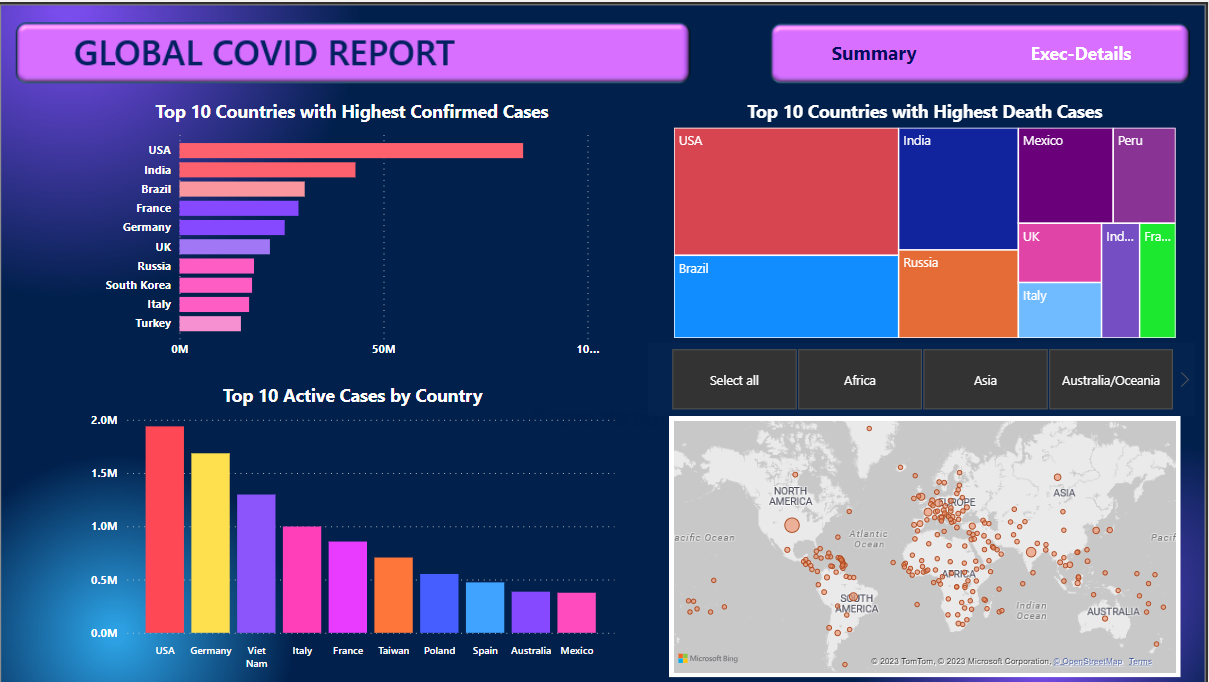

The page's visual inventory and layout, read from the dashboard file:
{"tool":"powerbi","page":{"name":"Summary","canvas":[1280,720],"ordinal":0},"visuals":[{"type":"barChart","title":"Top 10 Countries with Highest Confirmed Cases","fields":{"Category":["worldometer_coronavirus_summary_data.country"],"Y":["Sum(worldometer_coronavirus_summary_data.total_confirmed)"]},"box":[104.9,103.3,535.6,282.9],"z":0},{"type":"map","title":"Global Cases","fields":{"Category":["worldometer_coronavirus_summary_data.country","worldometer_coronavirus_summary_data.continent"],"Size":["Sum(worldometer_coronavirus_summary_data.total_confirmed)"]},"box":[708.9,438.7,542,276.6],"z":1000},{"type":"slicer","fields":{"Values":["worldometer_coronavirus_summary_data.continent"]},"box":[686.6,360.8,580.1,77.9],"z":2000},{"type":"treemap","title":"Top 10 Countries with Highest Death Cases","fields":{"Group":["worldometer_coronavirus_summary_data.country"],"Values":["Sum(worldometer_coronavirus_summary_data.total_deaths)"]},"box":[708.9,103.3,542,257.5],"z":3000},{"type":"clusteredColumnChart","title":"Top 10 Active Cases by Country","fields":{"Category":["Global_covid_Data.country"],"Y":["Sum(Global_covid_Data.active_cases)"]},"box":[90.6,403.7,565.8,311.5],"z":4000},{"type":"pageNavigator","box":[821.7,27,429.1,52.5],"z":4001}]}

Visuals, with their boxes in screenshot pixels (x1, y1, x2, y2), scaled from the page's 1280x720 canvas onto the 1209x682 screenshot:
"Top 10 Countries with Highest Confirmed Cases" barChart: box(99, 98, 605, 366)
"Global Cases" map: box(670, 416, 1182, 678)
slicer - worldometer_coronavirus_summary_data.continent: box(649, 342, 1196, 416)
"Top 10 Countries with Highest Death Cases" treemap: box(670, 98, 1182, 342)
"Top 10 Active Cases by Country" clusteredColumnChart: box(86, 382, 620, 677)
pageNavigator: box(776, 26, 1181, 75)
